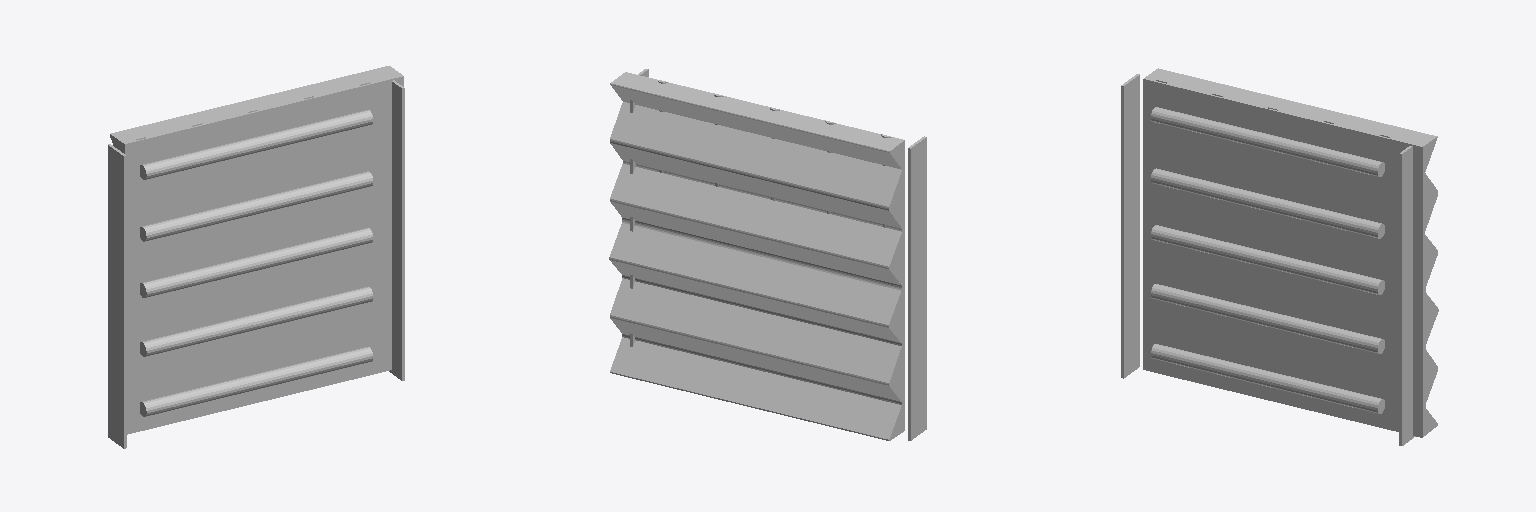
The model's file is 5栅格灯.obj.
3 renders of one model, left to right at view 1: azimuth 30°, elevation 25°; view 2: azimuth 150°, elevation 25°; view 3: azimuth 330°, elevation 25°, orthographic.
Parts seen in each view (by area): view 1: Line158, Box293, Box294, Cylinder138, Cylinder136, Cylinder140, Cylinder139, Cylinder137; view 2: Line158, Box293; view 3: Line158, Box293, Box294, Cylinder136, Cylinder140, Cylinder138, Cylinder137, Cylinder139.
Boxes of the visible parts, x1,y1,x2,y2 form: Line158: [110, 66, 403, 434]; Box293: [108, 144, 126, 448]; Box294: [389, 80, 404, 380]; Cylinder138: [140, 171, 372, 241]; Cylinder136: [140, 287, 372, 356]; Cylinder140: [140, 347, 372, 416]; Cylinder139: [140, 110, 372, 179]; Cylinder137: [140, 228, 372, 297]; Line158: [609, 72, 904, 440]; Box293: [908, 136, 926, 440]; Line158: [1143, 68, 1438, 437]; Box293: [1121, 74, 1139, 378]; Box294: [1399, 146, 1415, 445]; Cylinder136: [1151, 284, 1384, 353]; Cylinder140: [1151, 344, 1384, 413]; Cylinder138: [1151, 168, 1384, 238]; Cylinder137: [1151, 225, 1384, 294]; Cylinder139: [1151, 107, 1384, 176].
Size of the model in its own units: 707 by 686 by 112.